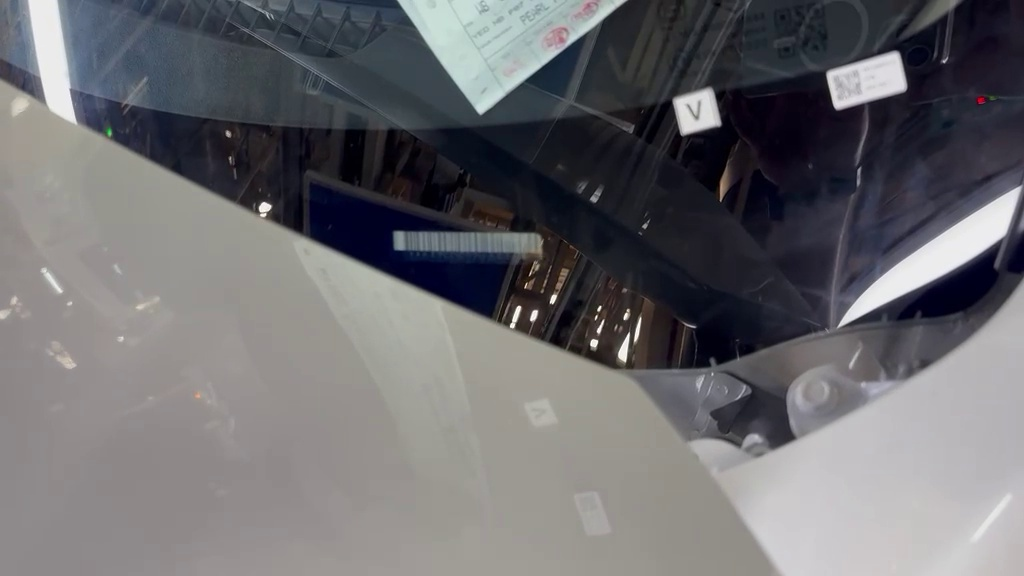hinge: (374, 213, 579, 277)
